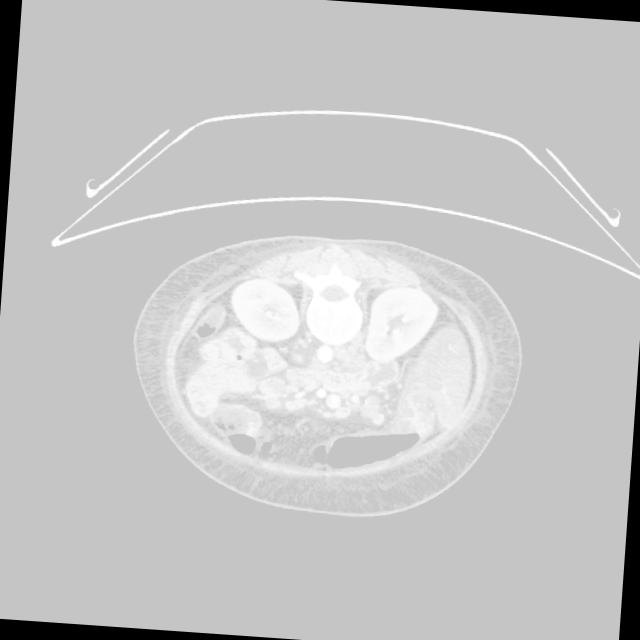NORMAL: (125, 211, 523, 525)
